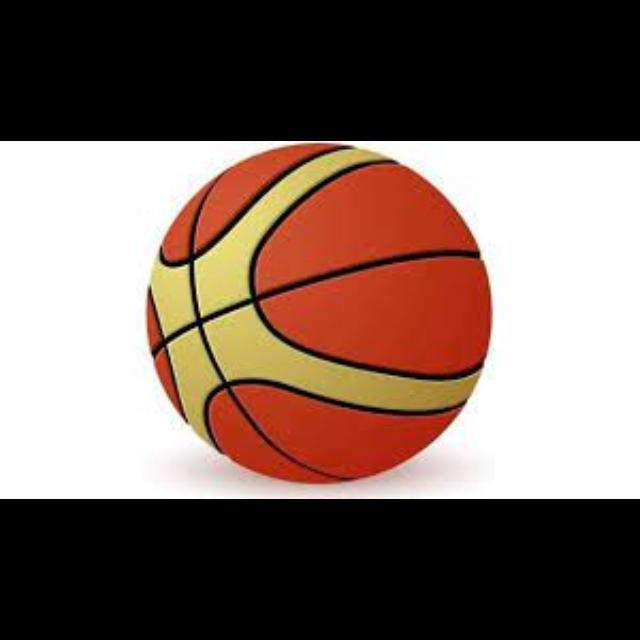basketball: (150, 143, 492, 483)
